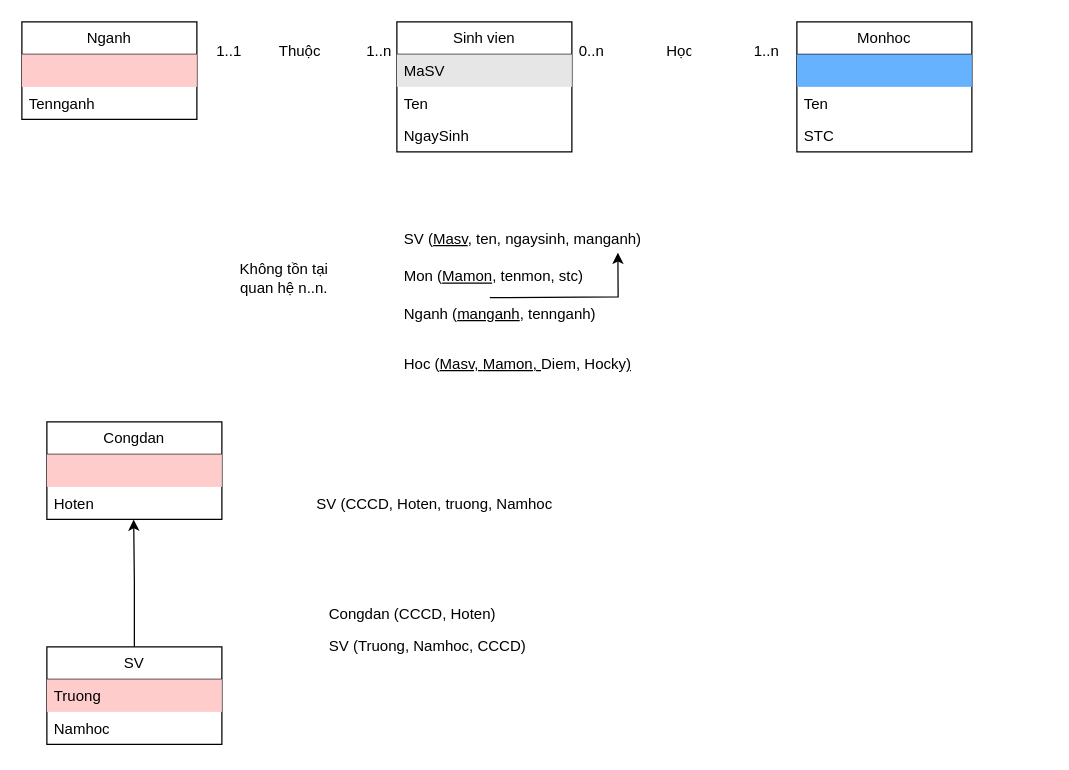
Some shapes in this 1069 by 770 pixel diagram are drawn without their labels. Here are the shapes that lost their labels. From the top down, the centre of each, then its label:
the point at 108,70: Manganh
the point at 883,70: Mamon
the point at 133,470: CCCD
